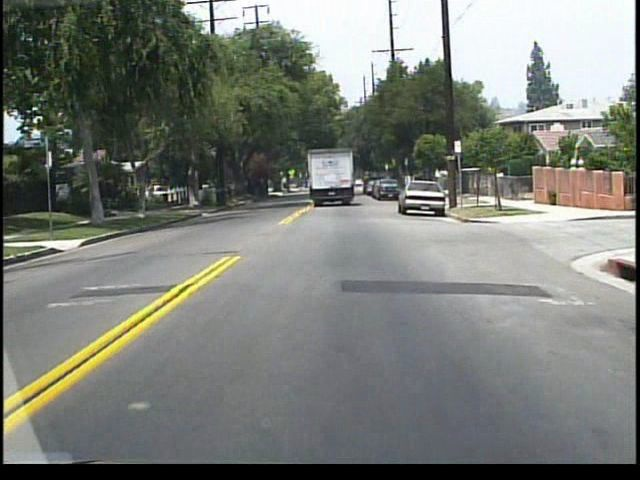person: (492, 166, 506, 199)
